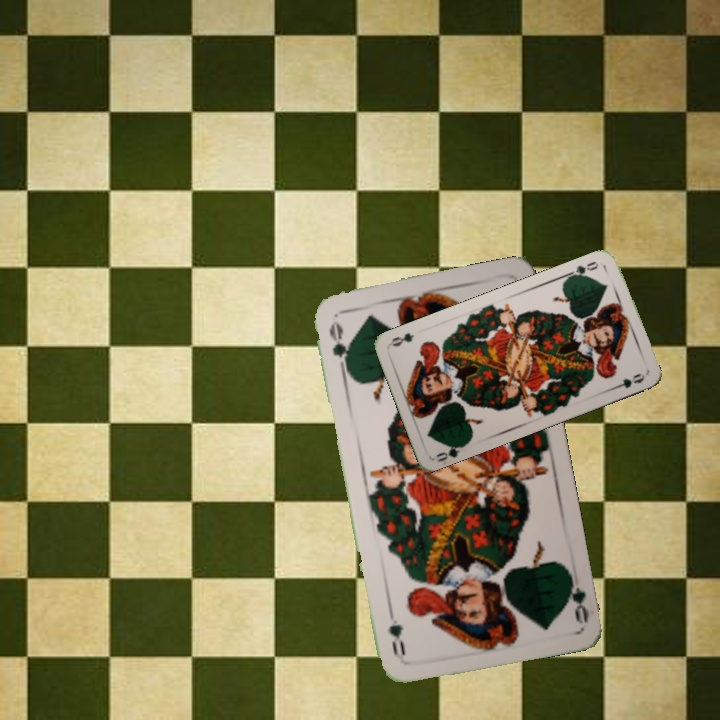GO: (562, 566, 592, 625), (325, 317, 352, 374), (432, 439, 470, 464), (563, 257, 601, 280)
